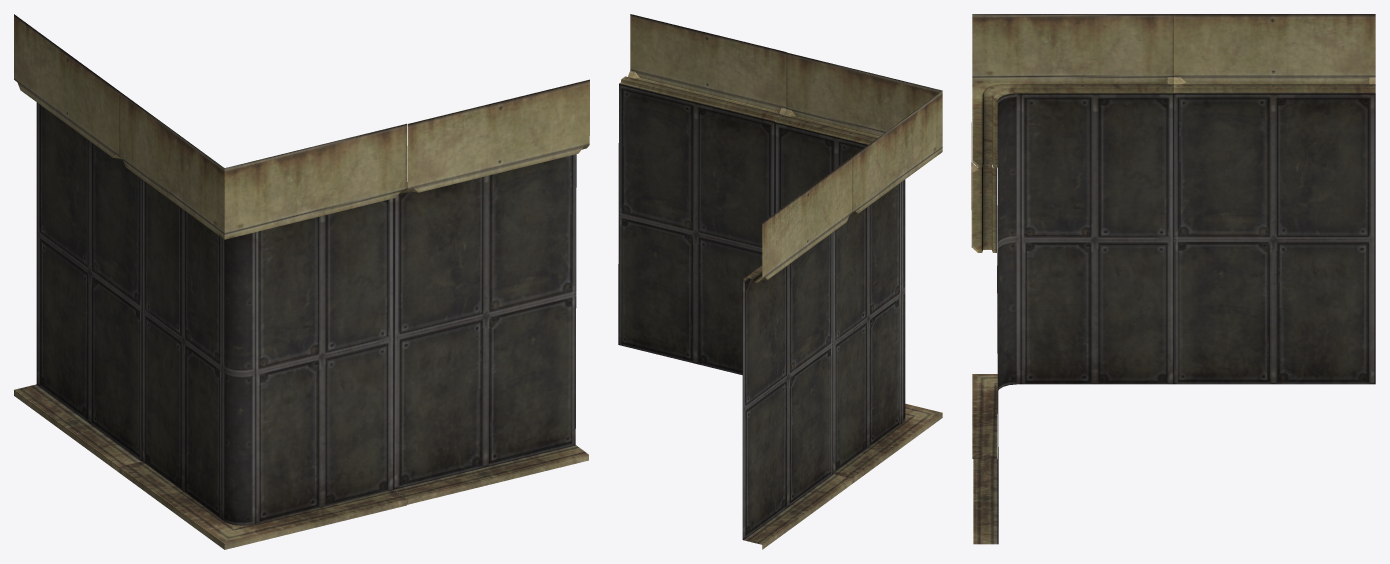
Rendered from pplant_ground_convex.dae.
3 renders of one model, left to right at view 1: azimuth 30°, elevation 25°; view 2: azimuth 150°, elevation 25°; view 3: azimuth 270°, elevation 25°, orthographic. The views are drawn at different scales.
Parts seen in each view (by area): view 1: ground_convex; view 2: ground_convex; view 3: ground_convex.
Boxes of the visible parts, x1,y1,x2,y2 form: ground_convex: [14, 14, 589, 549]; ground_convex: [618, 14, 942, 549]; ground_convex: [971, 14, 1375, 544].
Size of the model in its own units: 4 by 4 by 4.01.
